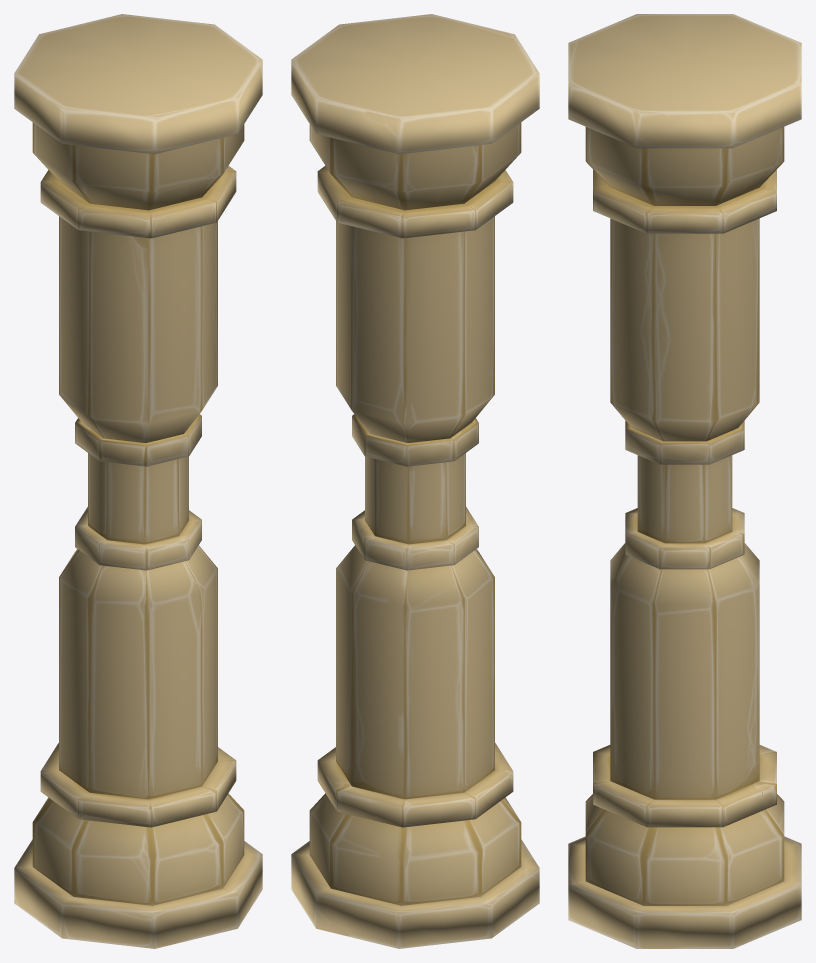
Rendered from MODULAR_FullPillar 1.fbx.
The picture shows the model from 3 angles, left to right: view 1: azimuth 30°, elevation 25°; view 2: azimuth 150°, elevation 25°; view 3: azimuth 270°, elevation 25°; orthographic projection.
Visible parts, largest first — view 1: pCylinder27; view 2: pCylinder27; view 3: pCylinder27.
Part boxes in pixels (bbox=[...]): pCylinder27: bbox=[14, 14, 262, 948]; pCylinder27: bbox=[291, 14, 539, 948]; pCylinder27: bbox=[568, 14, 801, 948].
Bounding box in the file's own units: 75.91 × 300 × 75.91.
1 material, 1 textured.
